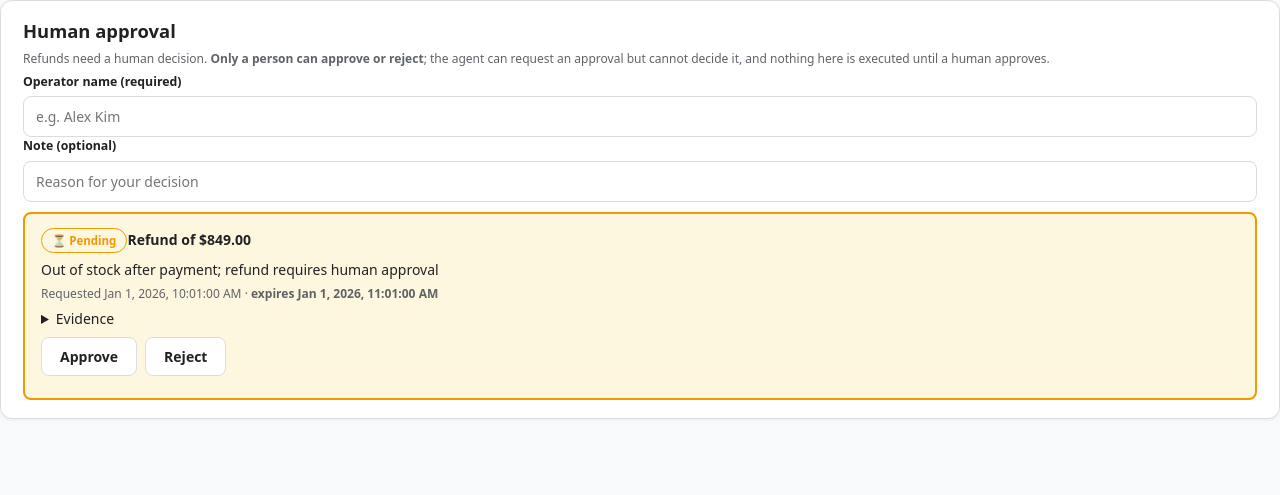
ApprovalPanel › requires an operator name before deciding
The image size is (1280, 495).
Click the button "Approve".
click(89, 357)  # box [41,337,137,376]
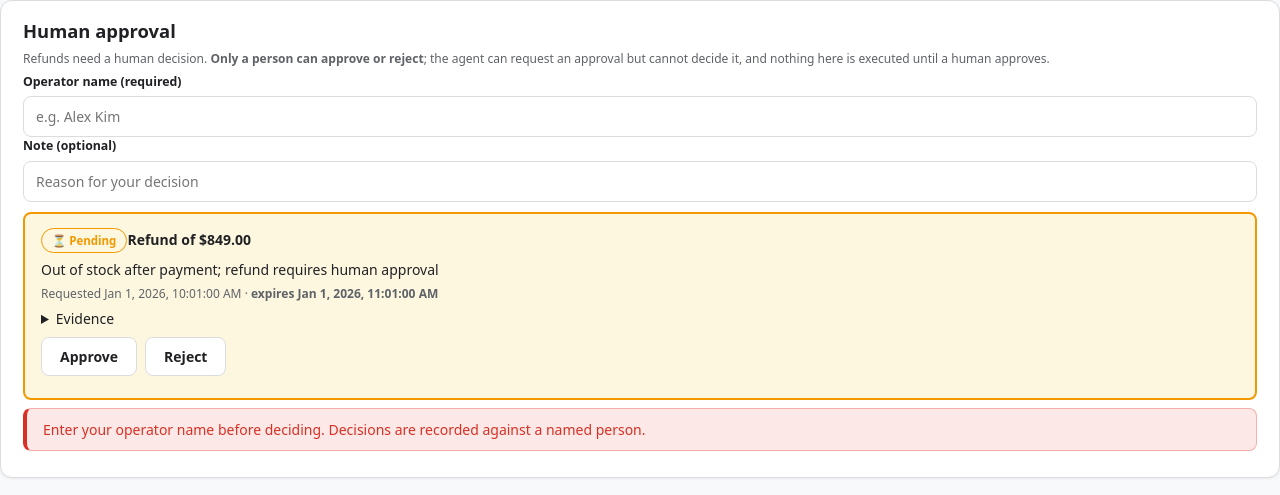
expect the text "Refund of $849.00" is shown: met, box [127,230,251,249]
expect the message shows "operator name": met, box [43,420,646,439]
